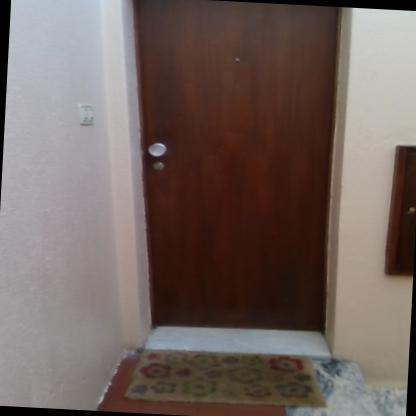closed: (104, 0, 373, 344)
